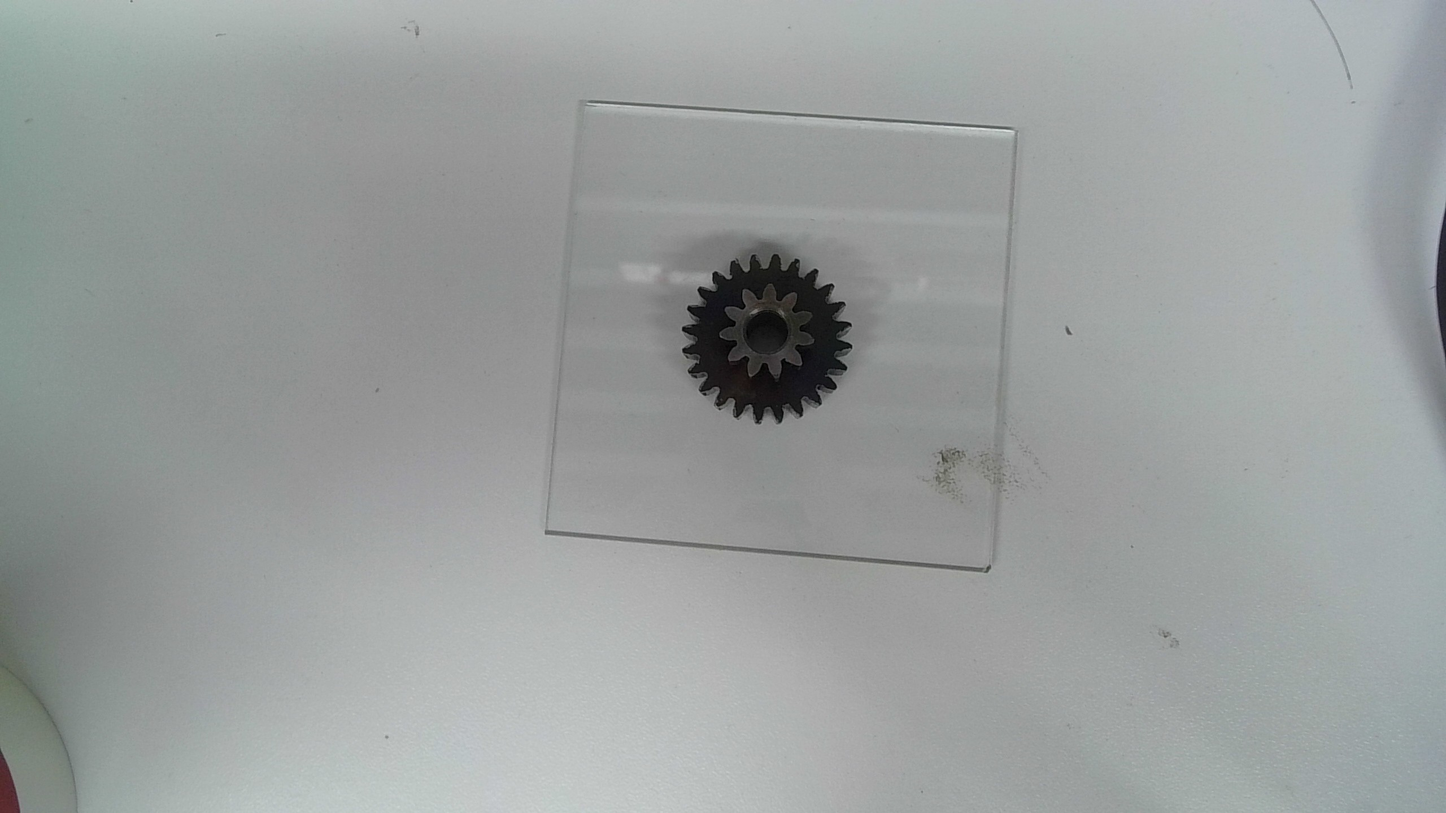gear: (682, 253, 855, 425)
